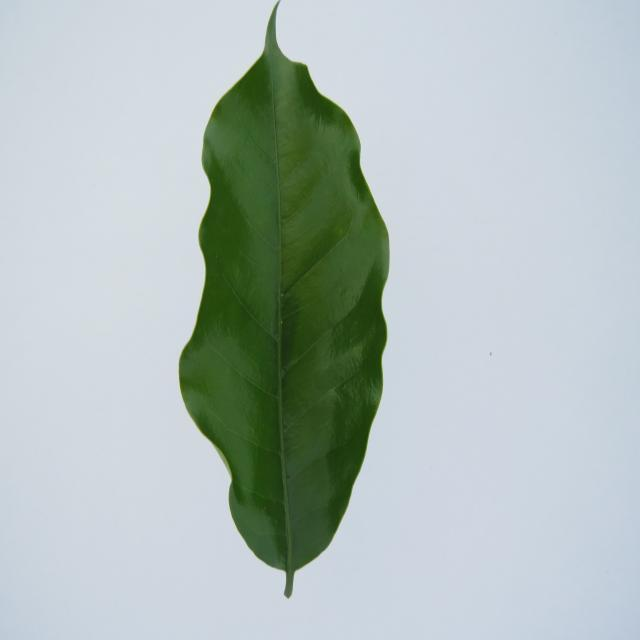DeficienciaNutricional-Calcio: (179, 5, 389, 597)
